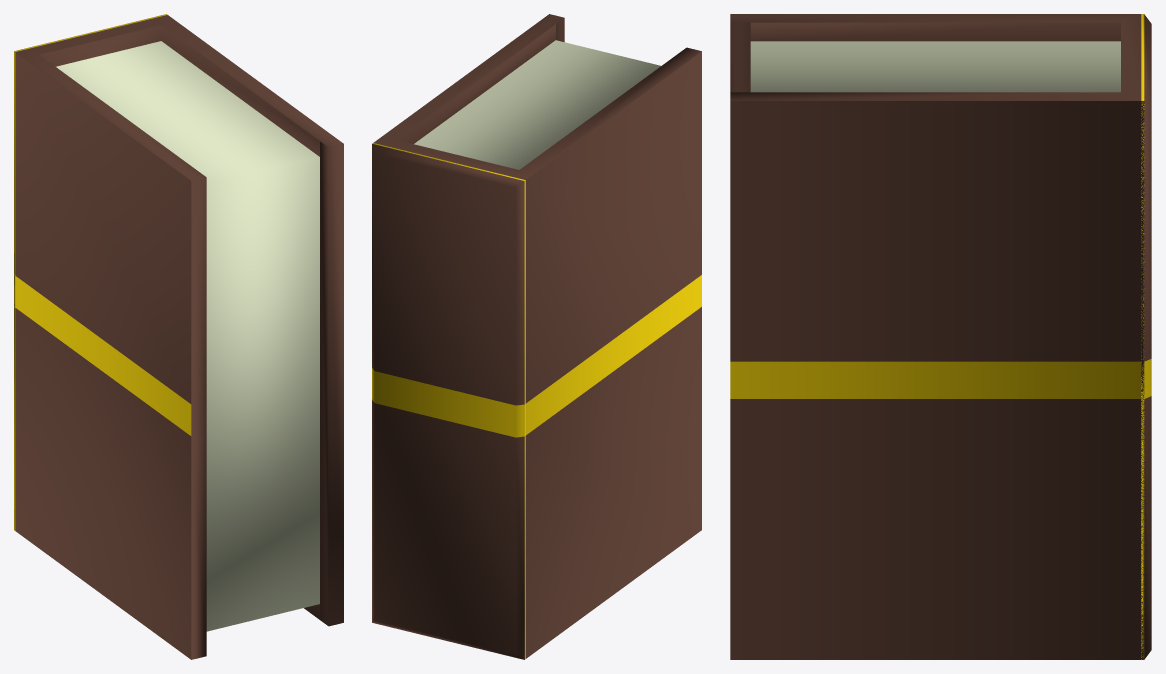
The model's file is SingleBook.fbx.
3 renders of one model, left to right at view 1: azimuth 30°, elevation 25°; view 2: azimuth 150°, elevation 25°; view 3: azimuth 270°, elevation 25°, orthographic. The views are drawn at different scales.
Visible parts, largest first — view 1: Cube; view 2: Cube; view 3: Cube.
Boxes of the visible parts, bbox=[...] form: Cube: bbox=[14, 14, 343, 659]; Cube: bbox=[372, 14, 701, 659]; Cube: bbox=[730, 14, 1151, 659].
Size of the model in its own units: 10 by 30 by 20.5.
